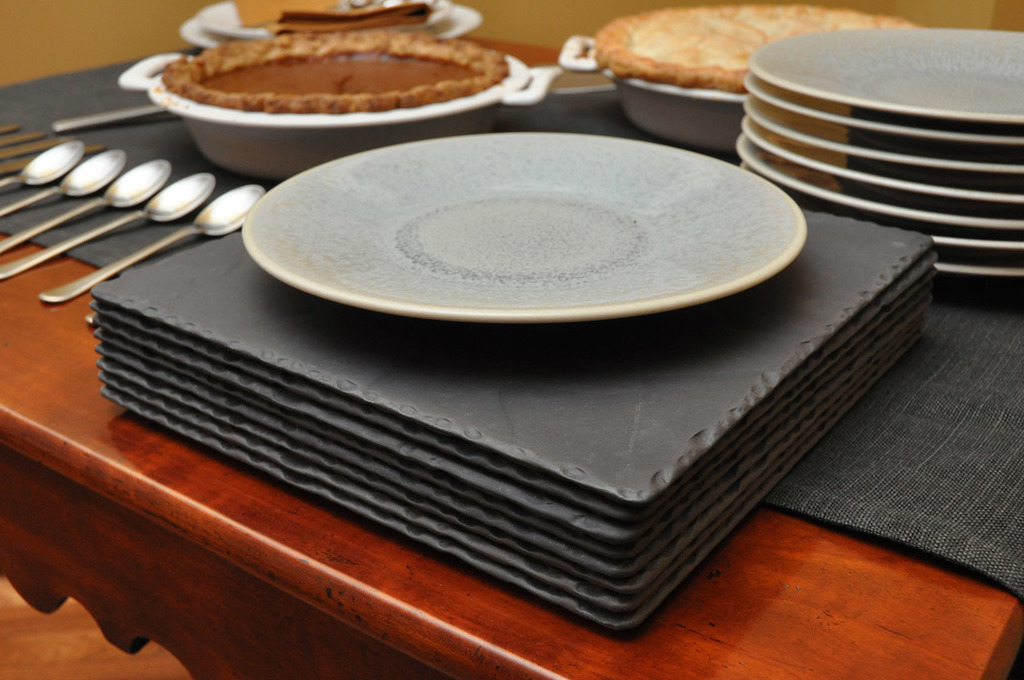plate: (247, 113, 763, 316)
